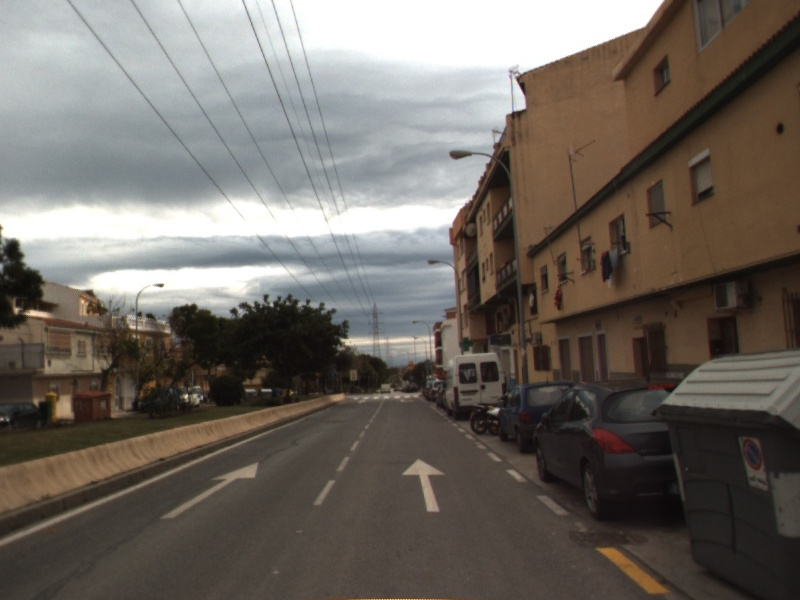STRAIGHT: (159, 460, 260, 520), (400, 457, 448, 514)
